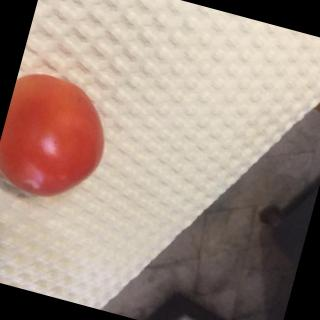Tomat: (1, 63, 125, 225)
